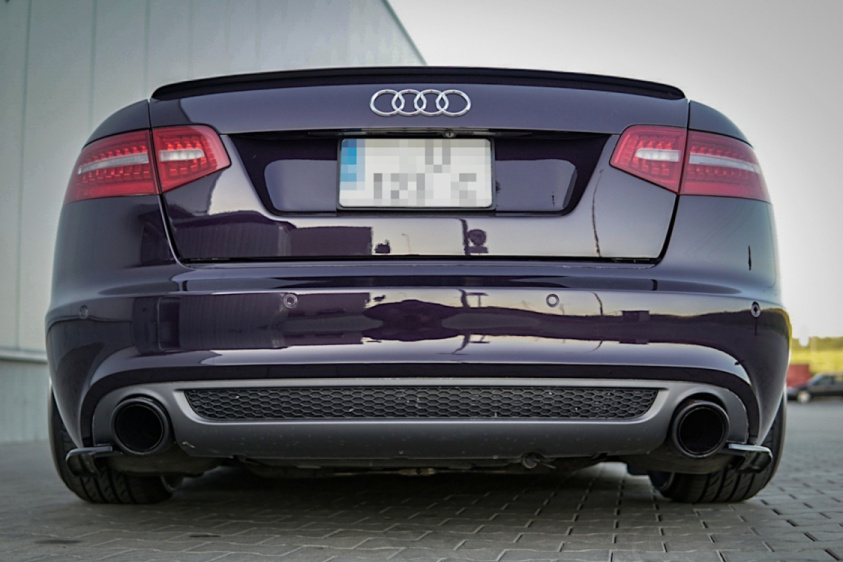audi: (362, 83, 487, 124)
